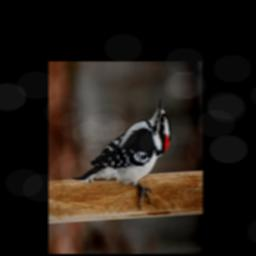Woodpecker: (72, 97, 172, 211)
